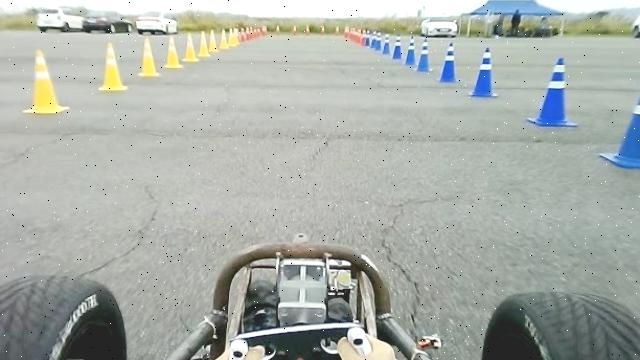blue cone: (598, 73, 640, 168), (528, 56, 578, 126), (466, 45, 498, 97), (437, 40, 462, 82), (416, 37, 435, 71), (404, 34, 417, 66)
yellow cone: (21, 49, 68, 114), (98, 41, 129, 91), (137, 38, 161, 76), (164, 35, 183, 68), (182, 31, 200, 62), (198, 30, 211, 56)
